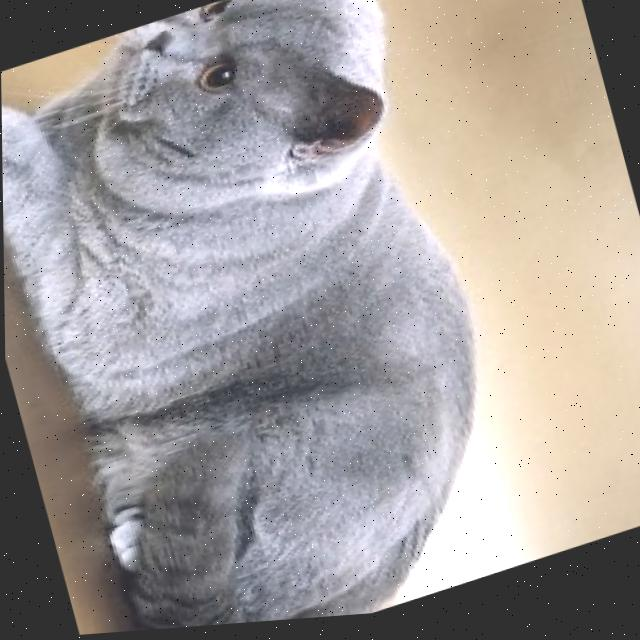British Shorthair: (0, 0, 573, 640)
